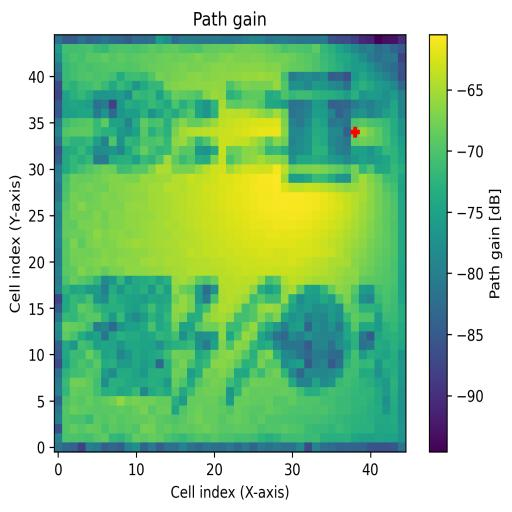Concrete: (289, 71, 352, 183)
Glass: (116, 72, 195, 173)
Metal: (281, 285, 351, 396)
Wood: (94, 276, 172, 397)
